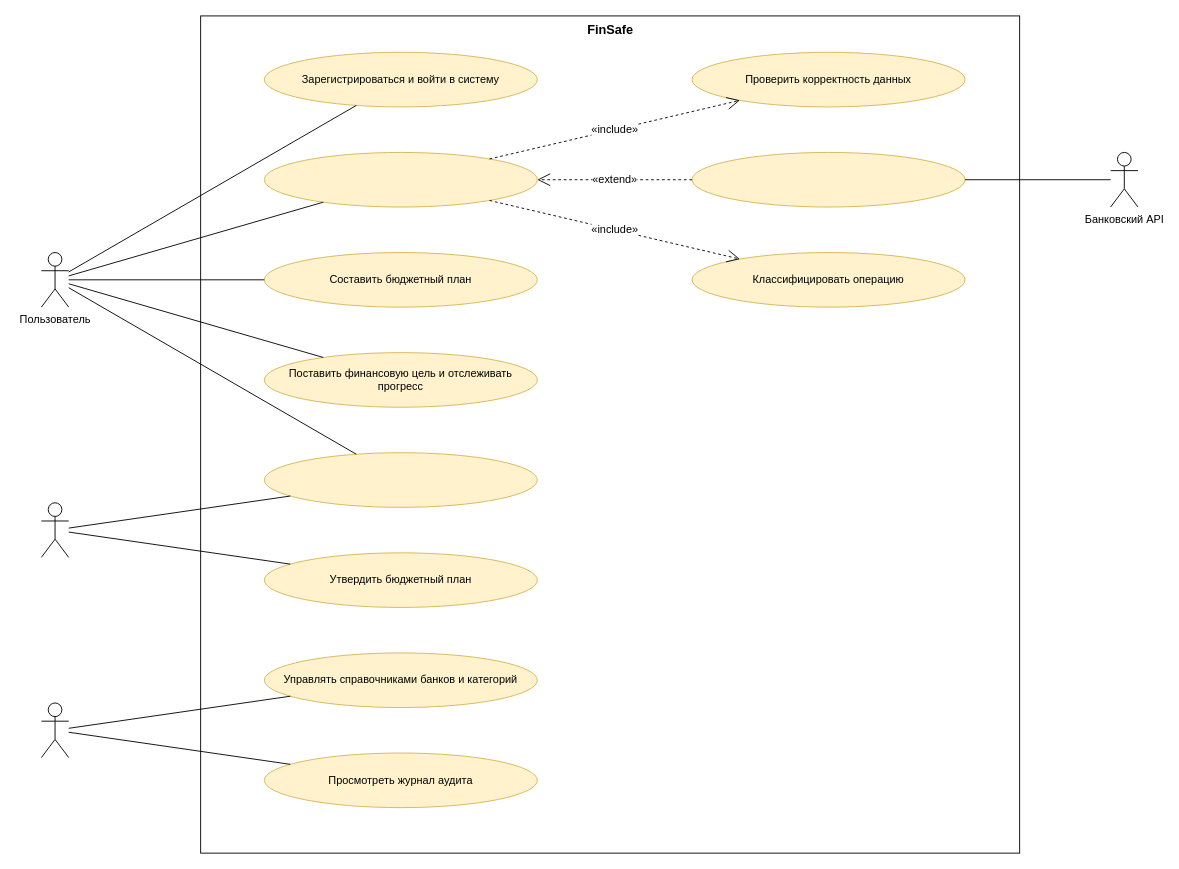
The diagram is 1179 pixels wide and 869 high, and some of its shapes have lost their labels. The shapes that lost their labels are listed below. From the top down, each one's box as (x1, y1, x2, y2) in pixels, then its label:
(263, 152, 537, 207): Ввести финансовые данные
(691, 152, 965, 207): Импортировать транзакции из банка
(263, 452, 537, 507): Просмотреть аналитику и отчёты
(40, 502, 69, 557): Руководитель
(40, 702, 69, 758): Администратор
